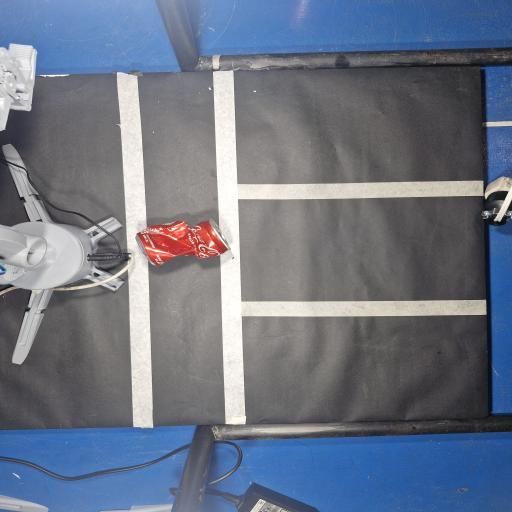lata_defectuoso: (136, 220, 229, 266)
